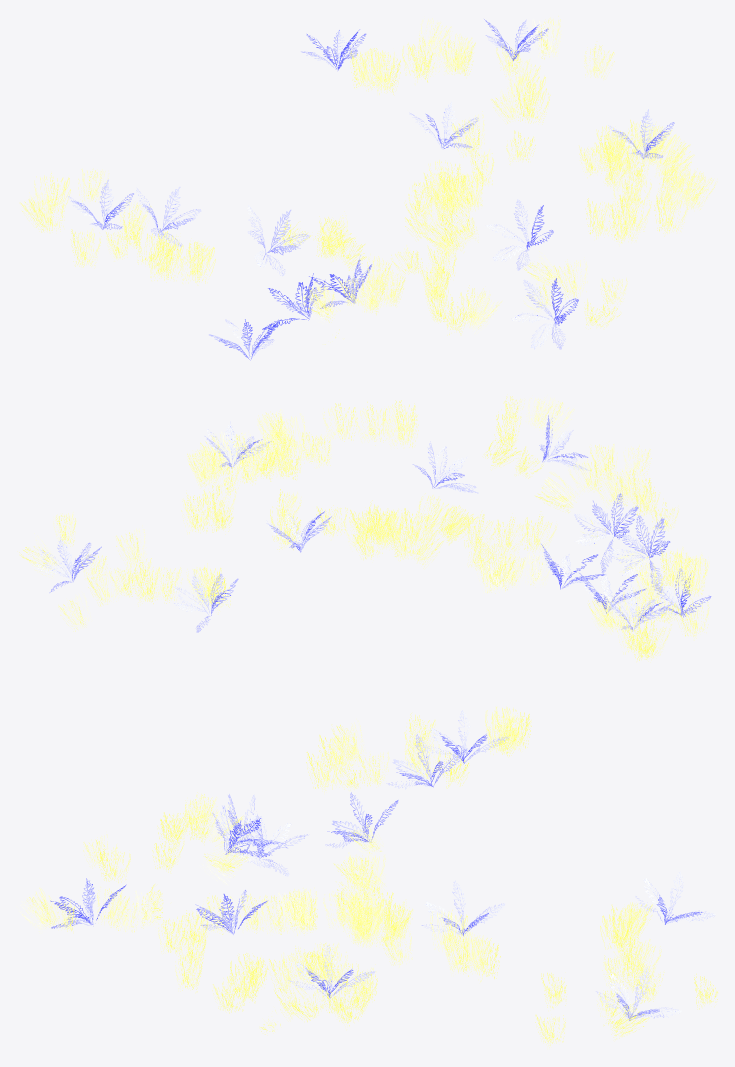
Rendered from plants.glb.
3 renders of one model, top to bottom at view 1: azimuth 30°, elevation 25°; view 2: azimuth 150°, elevation 25°; view 3: azimuth 270°, elevation 25°, orthographic. The views are drawn at different scales.
Visible parts, largest first — view 1: Plane.012, Plane.008, Plane.002, Plane.007, Plane.006, Plane.011, Plane.009, Plane.001, Plane.003, Plane.004, Plane.005, Plane.010 (+1 smaller); view 2: Plane.006, Plane.005, Plane.009, Plane.010, Plane.008, Plane.004, Plane.003, Plane.011, Plane.012, Plane.002, Plane.001, Plane.007 (+7 smaller); view 3: Plane.005, Plane.010, Plane.007, Plane.003, Plane.002, Plane.004, Plane.001, Plane.009, Plane.012, Plane.008, Plane.011, Plane.006 (+5 smaller).
Part boxes in pixels (x1,y1,x2,y2): Plane.012: (511, 278, 578, 349); Plane.008: (486, 199, 553, 270); Plane.002: (247, 205, 309, 276); Plane.007: (136, 187, 201, 247); Plane.006: (262, 273, 325, 329); Plane.011: (209, 319, 281, 360); Plane.009: (301, 29, 366, 70); Plane.001: (409, 102, 478, 148); Plane.003: (608, 109, 674, 158); Plane.004: (68, 179, 133, 229); Plane.005: (309, 255, 371, 308); Plane.010: (484, 19, 548, 60); Plane.006: (607, 515, 670, 592); Plane.005: (574, 493, 638, 573); Plane.009: (173, 571, 238, 632); Plane.010: (32, 536, 101, 592); Plane.008: (412, 441, 478, 493); Plane.004: (606, 584, 672, 630); Plane.003: (205, 421, 271, 468); Plane.011: (635, 568, 711, 618); Plane.012: (539, 415, 589, 470); Plane.002: (541, 544, 605, 589); Plane.001: (266, 509, 331, 552); Plane.007: (579, 573, 646, 613); Plane.005: (212, 805, 271, 868); Plane.010: (595, 967, 681, 1020); Plane.007: (386, 734, 467, 789); Plane.003: (288, 945, 375, 998); Plane.002: (325, 792, 398, 848); Plane.004: (422, 710, 508, 763); Plane.001: (421, 880, 505, 936); Plane.009: (635, 871, 715, 924); Plane.012: (50, 878, 126, 928); Plane.008: (195, 890, 267, 934); Plane.011: (242, 811, 308, 876); Plane.006: (227, 794, 285, 847).
Bounding box in the file's own units: 30.26 × 5.74 × 29.55.
Materials: 2 (2 with a texture image).
